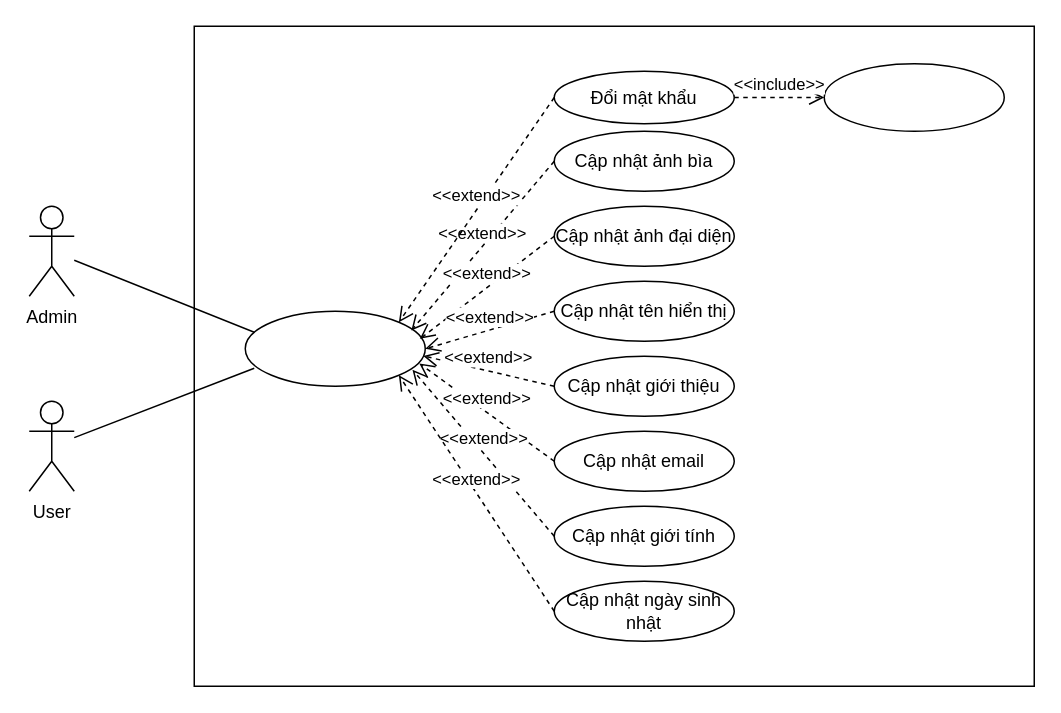
This 1061x713 diagram has some shape labels left out. The centre of each missing label's shape, as x and y in pixels:
"Quản lý thông tin cá nhân" goes at [334,348].
"Xác nhận mật khẩu cũ" goes at [913,96].
